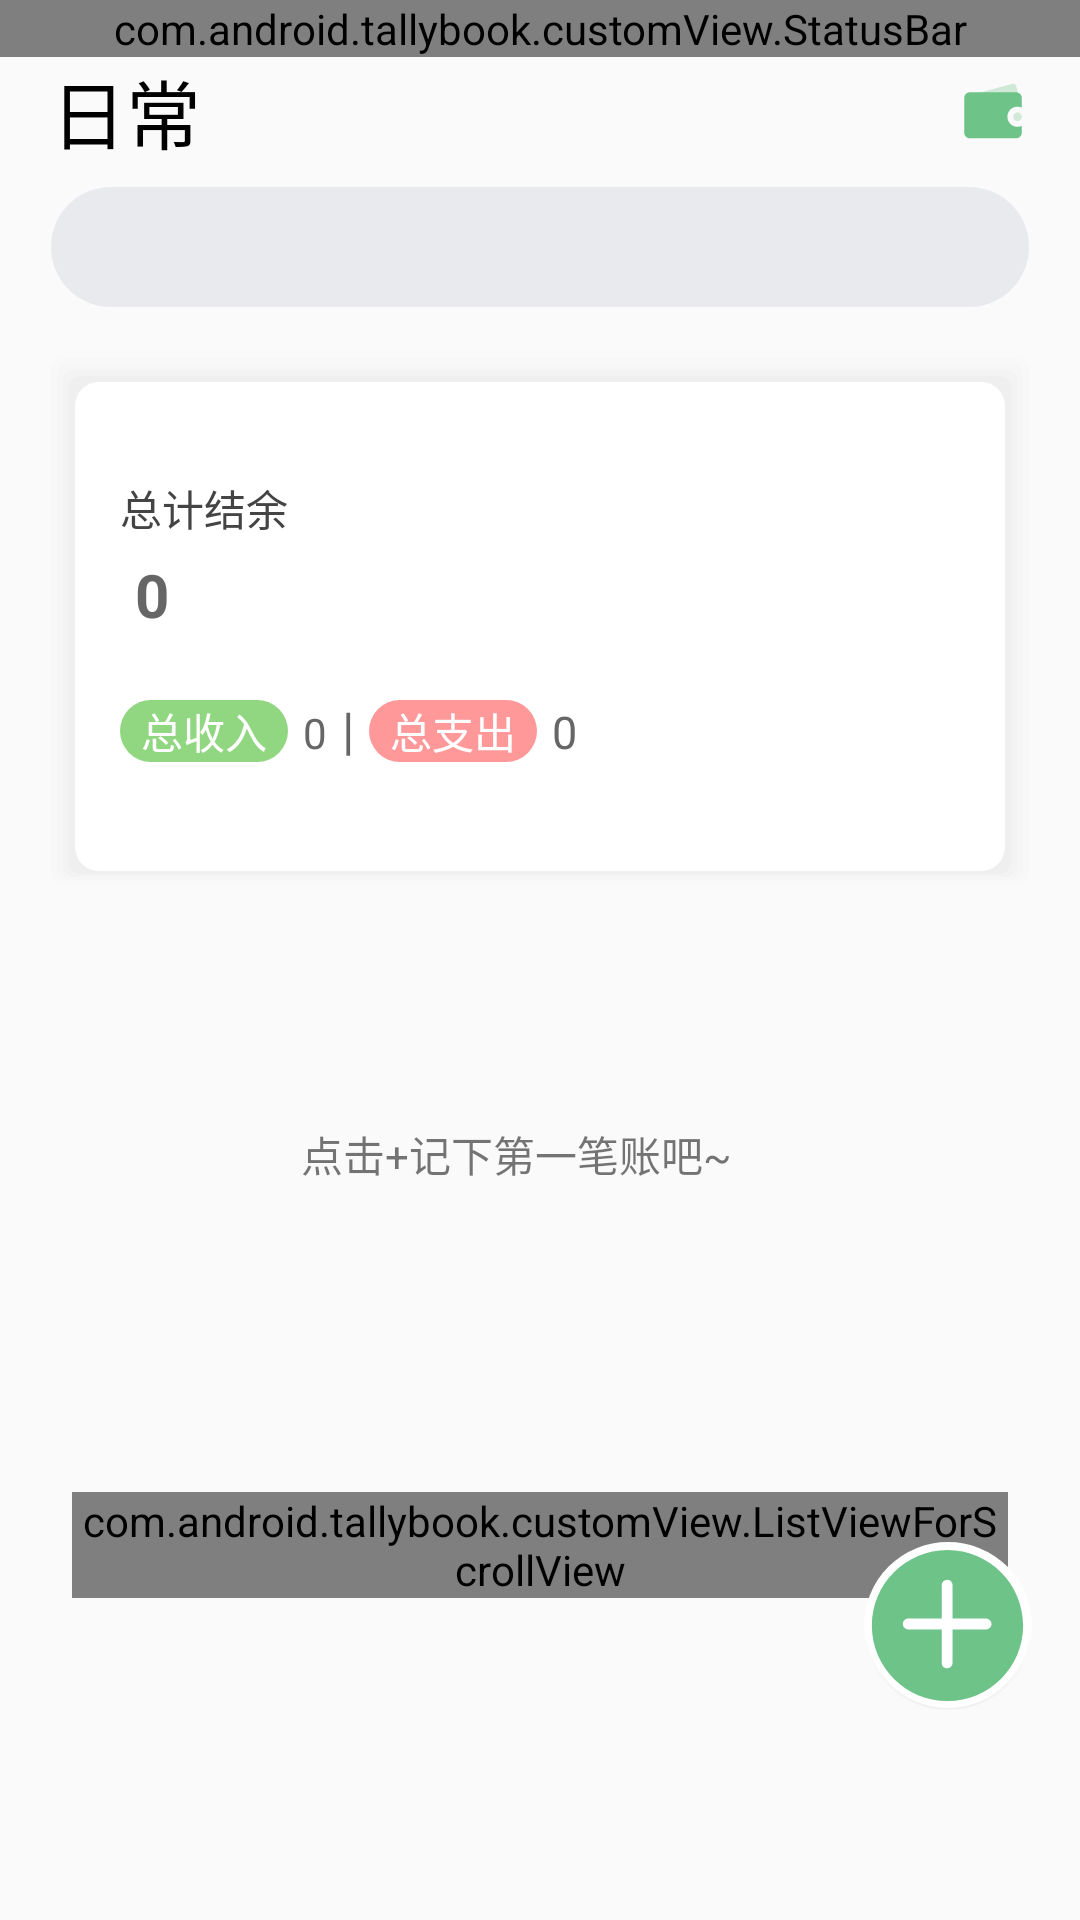

Where icons sit on this 1080px x 1920px app screen, as (x1, y1, x2, y2):
wallet: (964, 84, 1022, 139)
